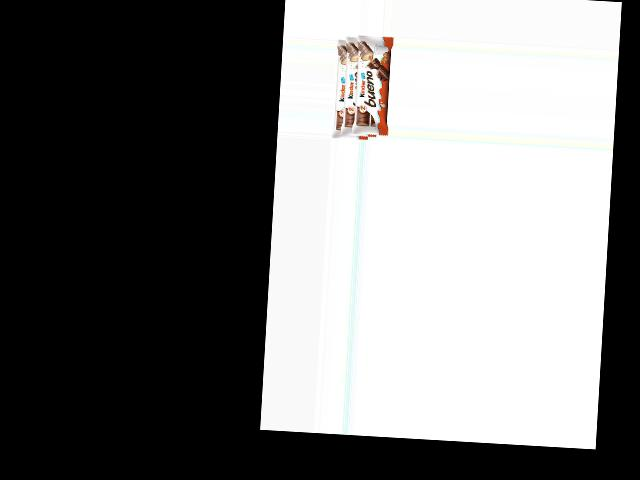chocolate: (331, 36, 394, 140)
